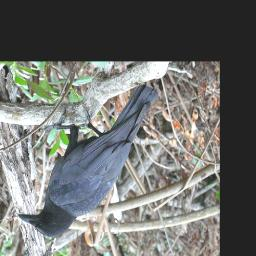Crow: (17, 80, 159, 238)
